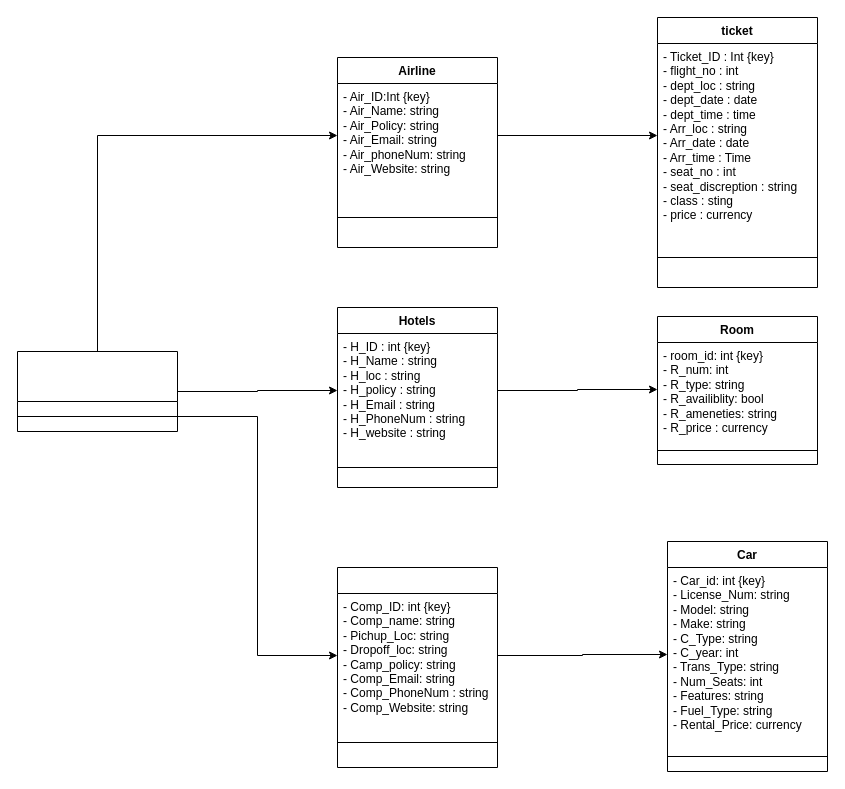
The diagram is 845 pixels wide and 789 high, and some of its shapes have lost their labels. The box of each missing label's shape, as (x1, y1, x2, y2) in pixels:
<<controller>> TravelOptionsHandler: (16, 350, 178, 432)
Car_comp: (336, 566, 498, 768)
